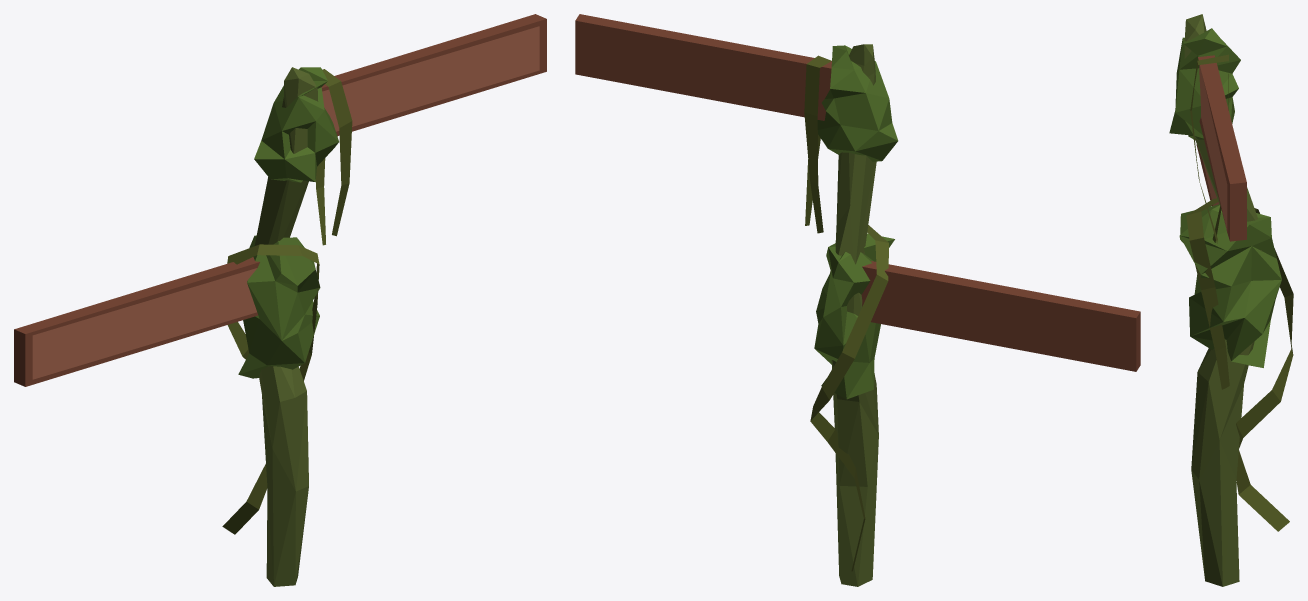
File: SignPost_Tree_Double.glb
3 renders of one model, left to right at view 1: azimuth 30°, elevation 25°; view 2: azimuth 150°, elevation 25°; view 3: azimuth 270°, elevation 25°, orthographic. The views are drawn at different scales.
Visible parts, largest first — view 1: Fantasy_Sign_01; view 2: Fantasy_Sign_01; view 3: Fantasy_Sign_01.
Part boxes in pixels (x1,y1,x2,y2): Fantasy_Sign_01: (14,14,546,586); Fantasy_Sign_01: (575,14,1140,586); Fantasy_Sign_01: (1169,14,1293,586).
Size of what is drawn, in the model's own units: 2.45 by 2.25 by 0.4495.
1 material, 1 textured.
